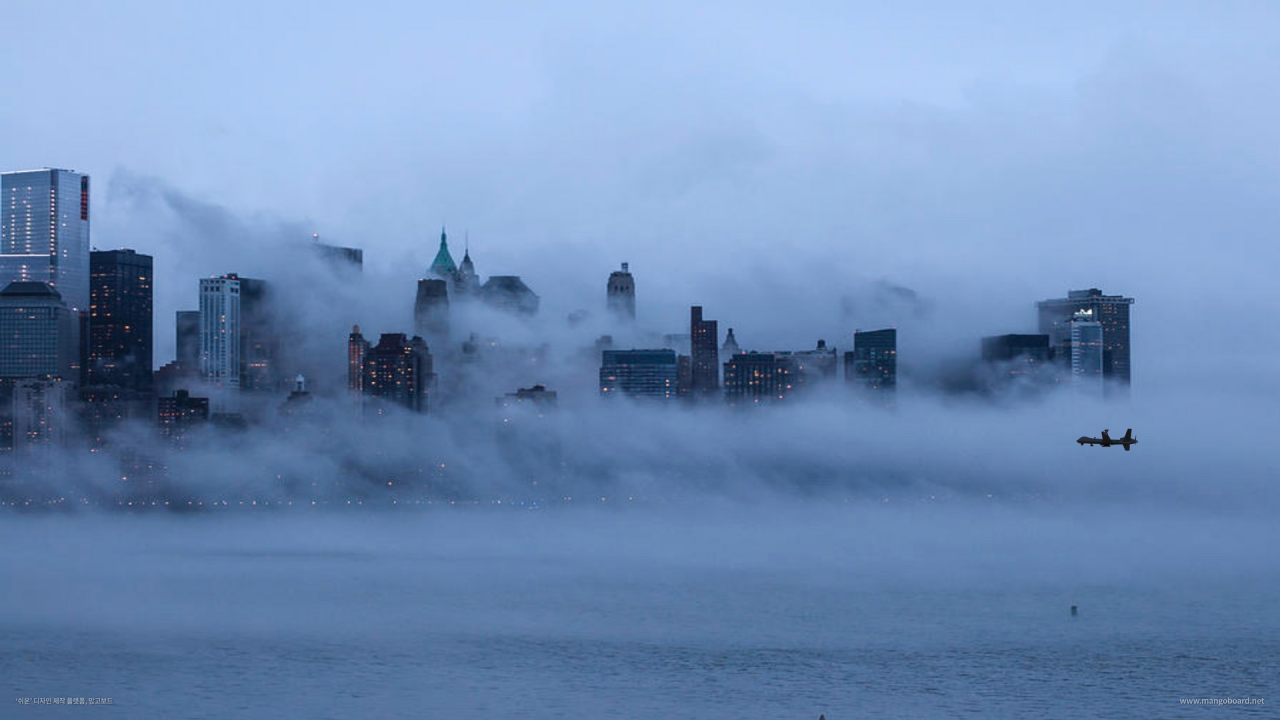military drone: (1076, 428, 1138, 450)
